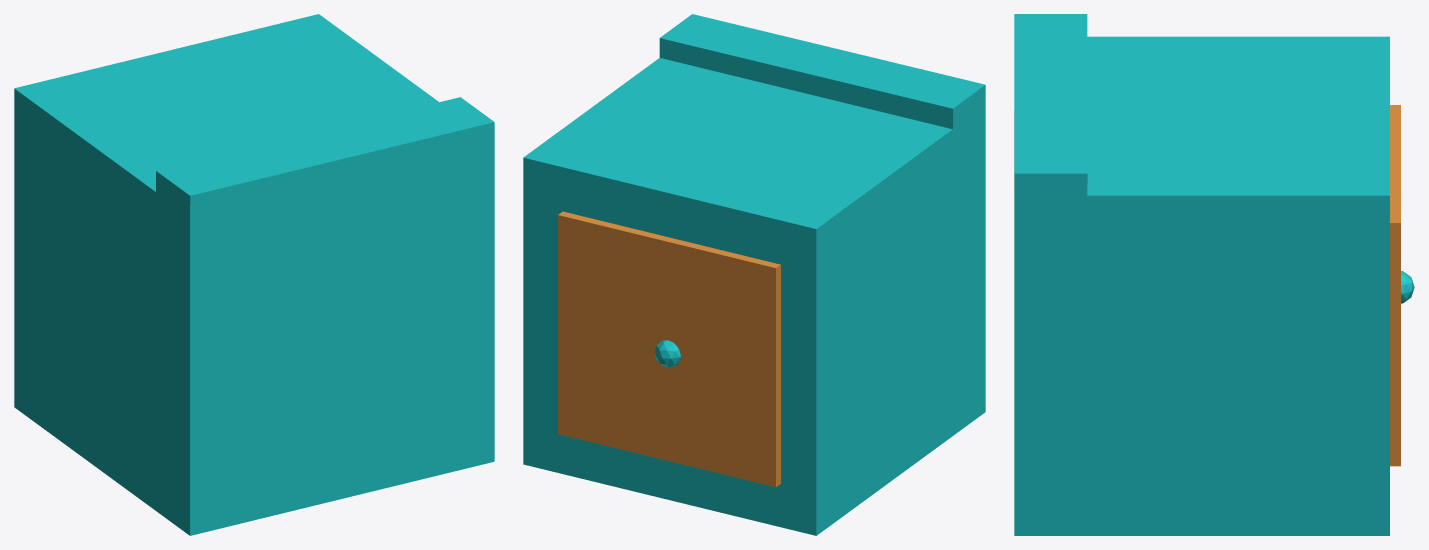
The model's file is mesita.fbx.
3 renders of one model, left to right at view 1: azimuth 30°, elevation 25°; view 2: azimuth 150°, elevation 25°; view 3: azimuth 270°, elevation 25°, orthographic. The views are drawn at different scales.
Visible parts, largest first — view 1: Cube; view 2: Cube; view 3: Cube.
Part boxes in pixels (left/top/right/bottom): Cube: left=14, top=14, right=494, bottom=535; Cube: left=523, top=14, right=985, bottom=535; Cube: left=1014, top=14, right=1414, bottom=535.
Size of the model in its own units: 100 by 107 by 107.
